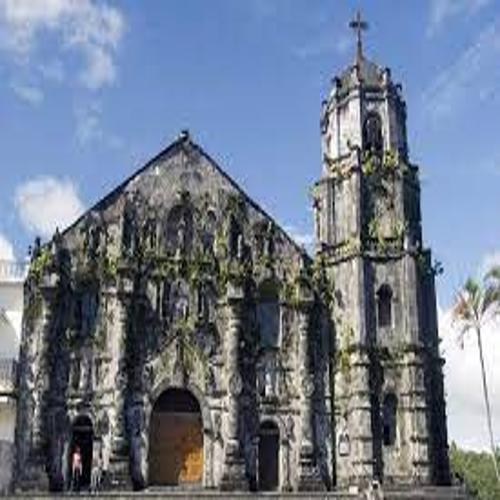Daraga Church: (28, 10, 457, 499)
